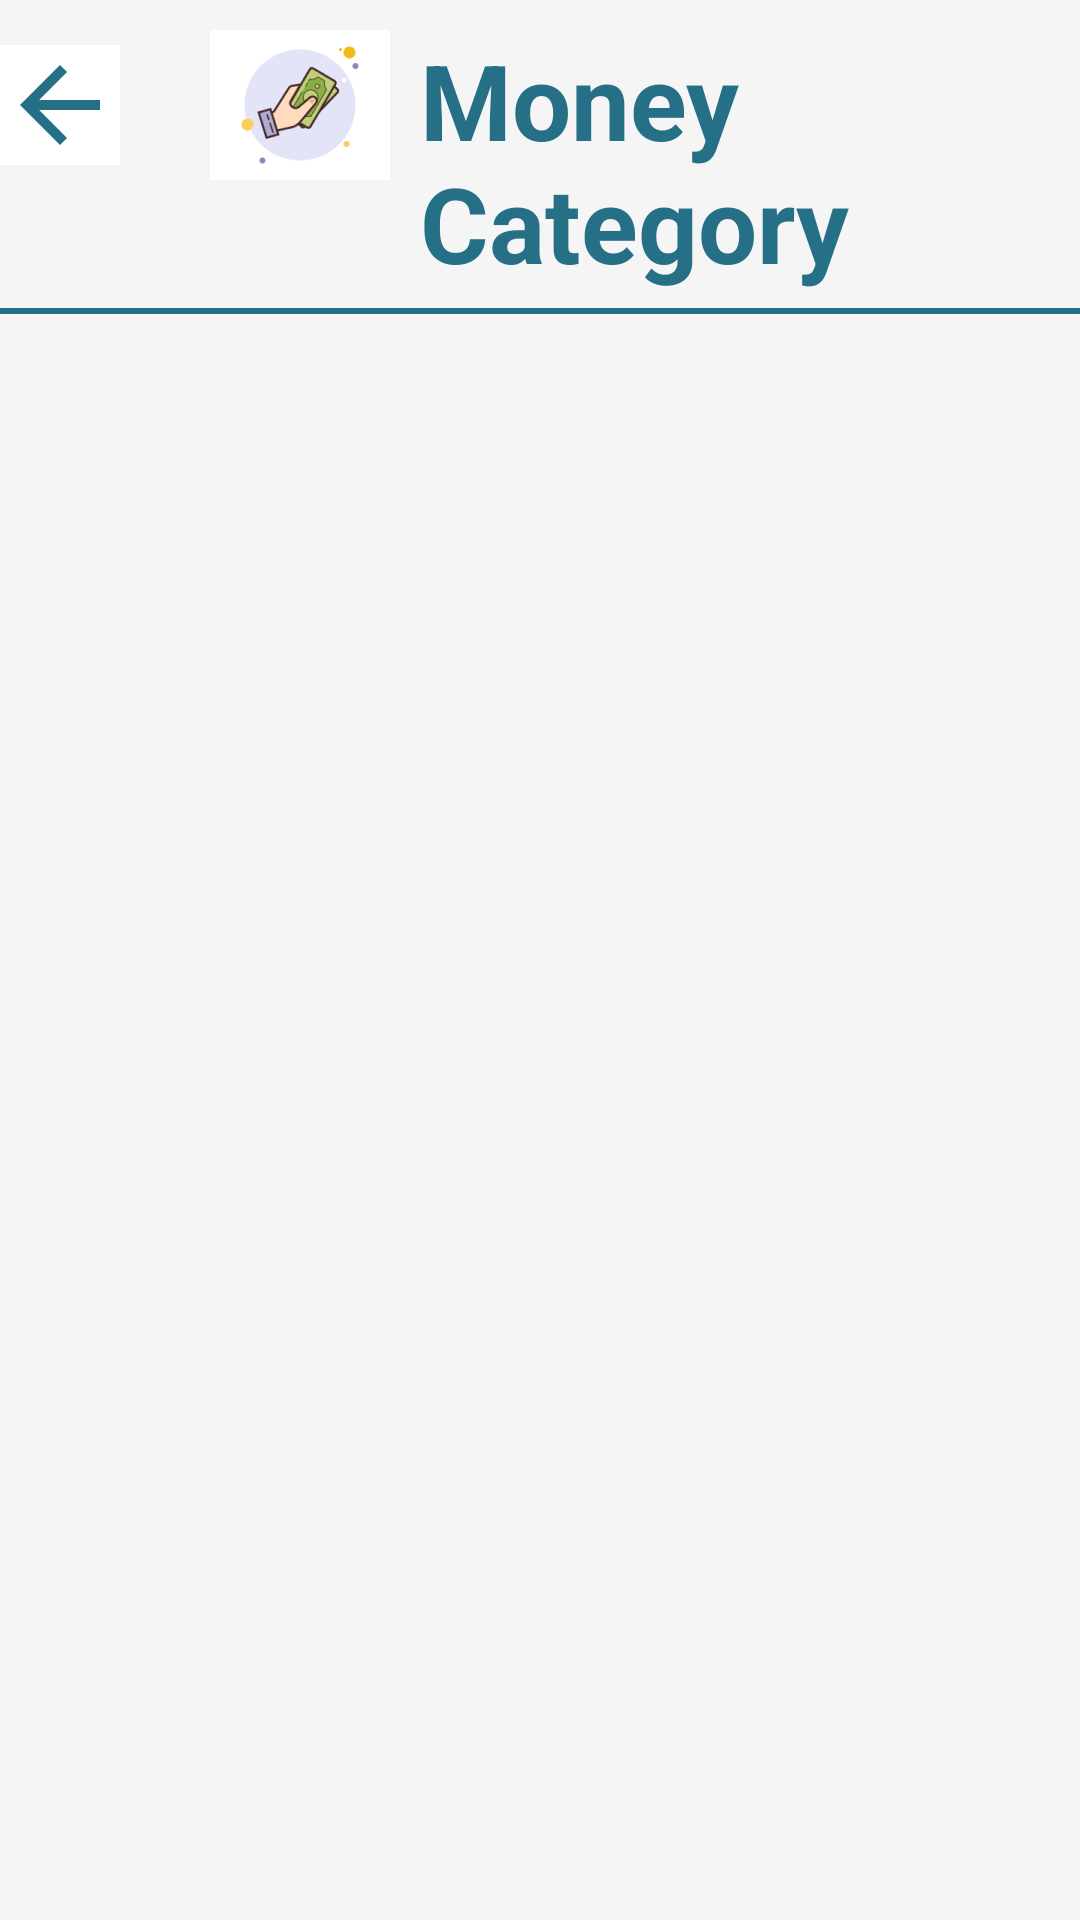

Icon click points for this 1080 x 1920 phone screenshot, format [x,y]:
arrow back: [60,105]
